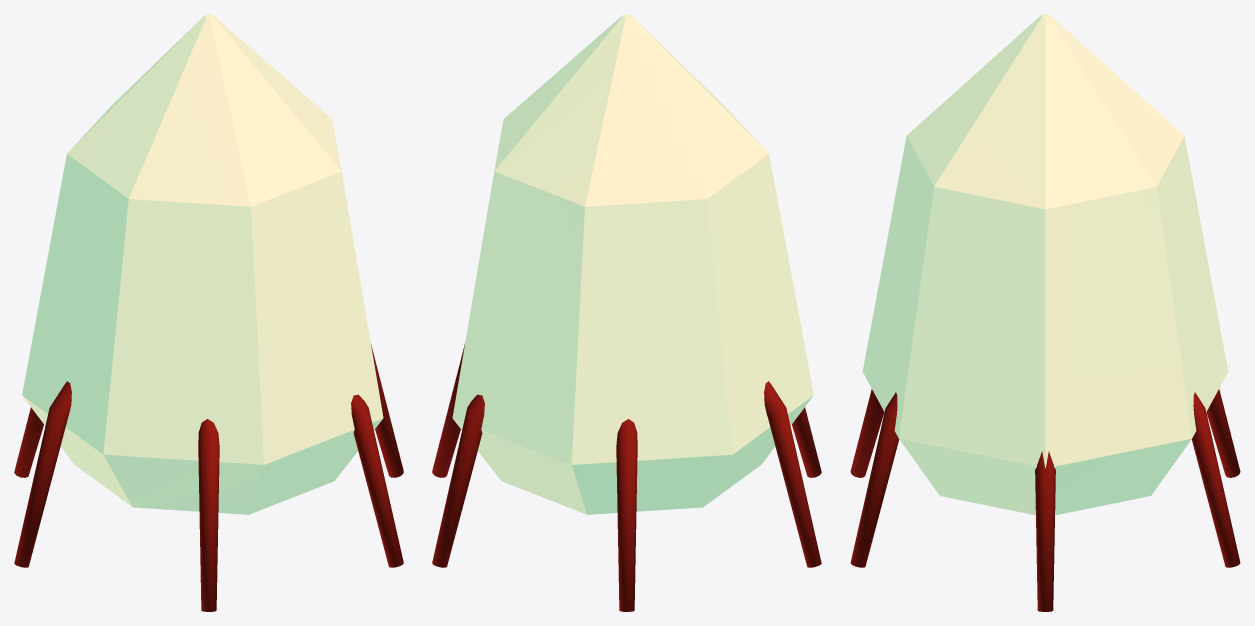
File: SM_RV_WardCrystal.fbx
3 views of the same model, side by side, from view 1: azimuth 30°, elevation 25°; view 2: azimuth 150°, elevation 25°; view 3: azimuth 270°, elevation 25° (orthographic).
Parts seen in each view (by area): view 1: SM_RV_WardCrystal; view 2: SM_RV_WardCrystal; view 3: SM_RV_WardCrystal.
Part boxes in pixels (x1,y1,x2,y2): SM_RV_WardCrystal: (14,14,403,611); SM_RV_WardCrystal: (432,14,821,611); SM_RV_WardCrystal: (850,14,1240,611).
Size of the model in its own units: 54.06 by 61.98 by 77.28.
